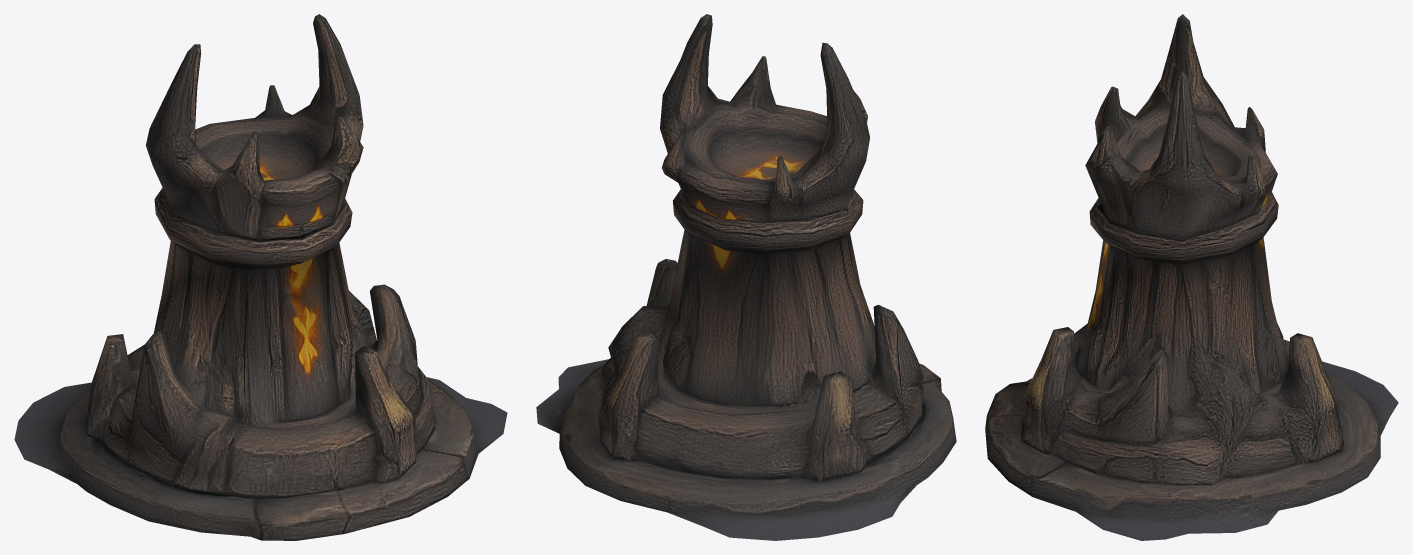
The model's file is tripo_convert_a24ec301-dcfd-4156-b32f-aeb7a6fc83b6.fbx.
The picture shows the model from 3 angles, left to right: view 1: azimuth 30°, elevation 25°; view 2: azimuth 150°, elevation 25°; view 3: azimuth 270°, elevation 25°; orthographic projection. The views are drawn at different scales.
Visible parts, largest first — view 1: tripo_node_a24ec301; view 2: tripo_node_a24ec301; view 3: tripo_node_a24ec301.
Boxes of the visible parts, x1,y1,x2,y2 form: tripo_node_a24ec301: (14,14,507,540); tripo_node_a24ec301: (536,14,956,540); tripo_node_a24ec301: (985,14,1398,540).
Size of the model in its own units: 0.998 by 0.9863 by 0.9355.
Materials: 1 (1 with a texture image).
